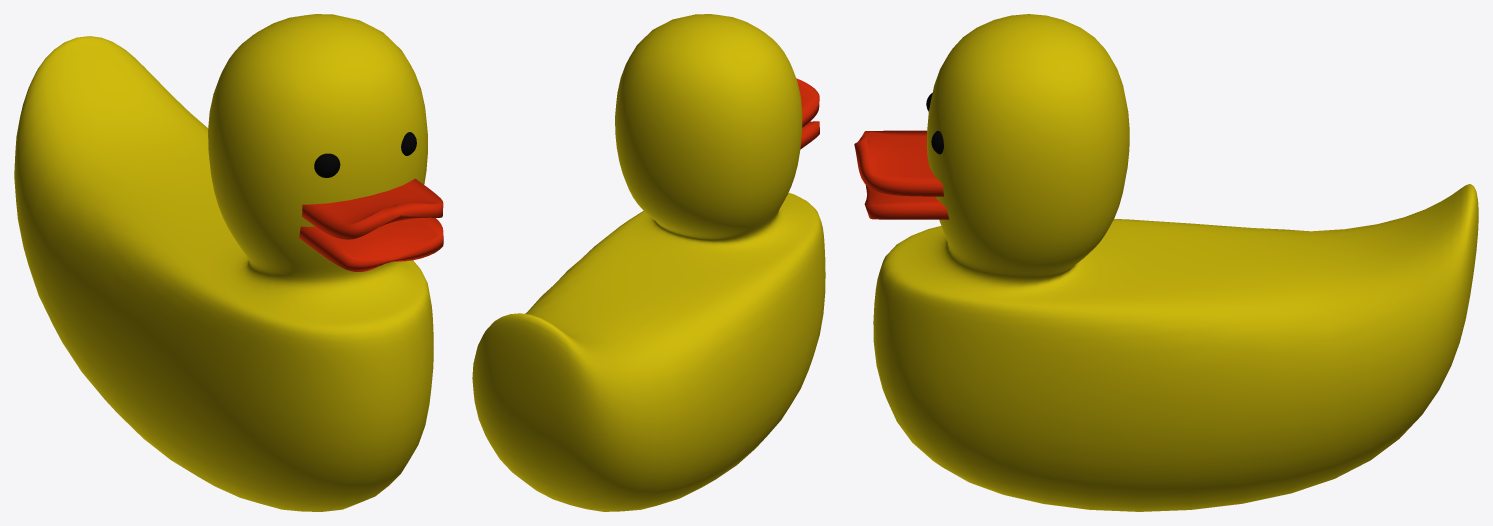
File: rubberDuck.obj
3 views of the same model, side by side, from view 1: azimuth 30°, elevation 25°; view 2: azimuth 150°, elevation 25°; view 3: azimuth 270°, elevation 25° (orthographic). The views are drawn at different scales.
Parts seen in each view (by area): view 1: Body, Beak, Eyes; view 2: Body, Beak; view 3: Body, Beak.
Part boxes in pixels (box(x1,y1,x2,y2)): Body: box(14, 14, 433, 511); Beak: box(299, 178, 443, 271); Eyes: box(314, 132, 416, 177); Body: box(472, 14, 825, 511); Beak: box(796, 78, 819, 149); Body: box(873, 14, 1478, 511); Beak: box(854, 130, 949, 219).
Bounding box in the file's own units: 0.4605 × 0.9222 × 1.09.
